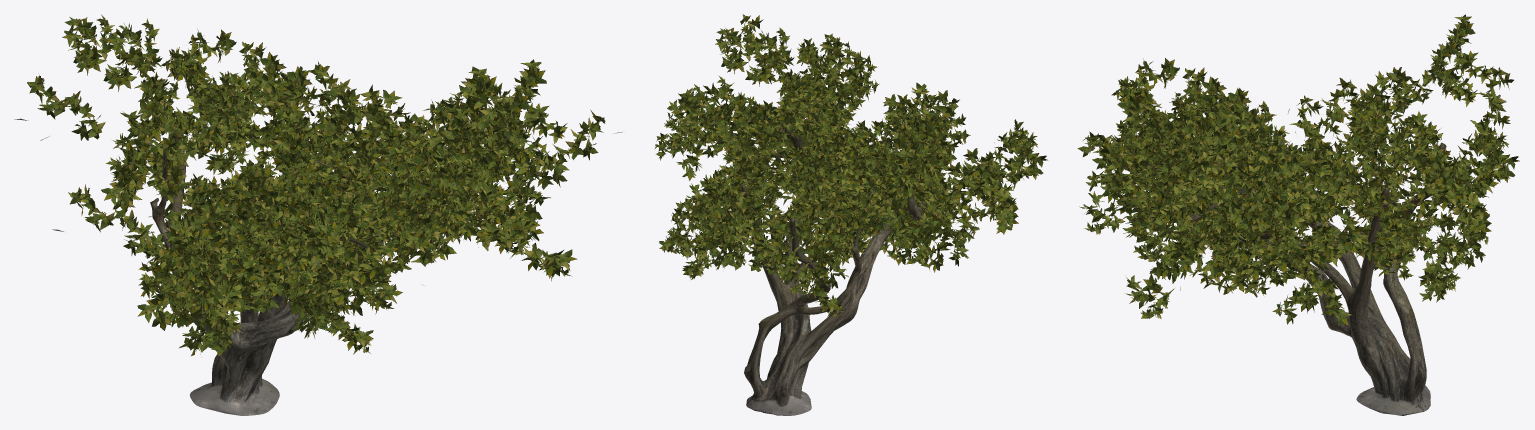
3 views of the same model, side by side, from view 1: azimuth 30°, elevation 25°; view 2: azimuth 150°, elevation 25°; view 3: azimuth 270°, elevation 25° (orthographic). The views are drawn at different scales.
Visible parts, largest first — view 1: island_tree_02_LOD0; view 2: island_tree_02_LOD0; view 3: island_tree_02_LOD0.
Part boxes in pixels (bbox=[...]): island_tree_02_LOD0: bbox=[14, 14, 622, 415]; island_tree_02_LOD0: bbox=[654, 14, 1047, 415]; island_tree_02_LOD0: bbox=[1077, 14, 1519, 415].
Size of the model in its own units: 4.21 by 3.42 by 4.14.
Materials: 3 (3 with a texture image).
